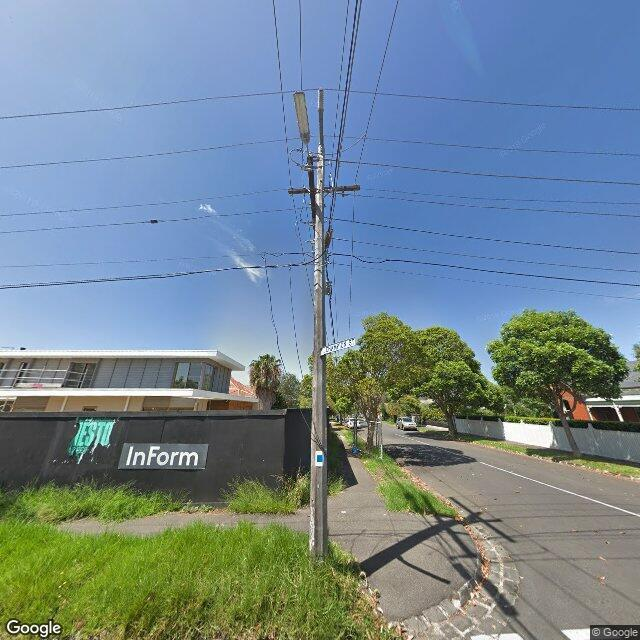HV-transmission: (318, 88, 325, 156)
crossarm: (288, 184, 360, 193), (308, 156, 315, 229), (319, 111, 324, 144)
streetlight: (294, 91, 310, 155)
timber-pole: (307, 155, 328, 559)
